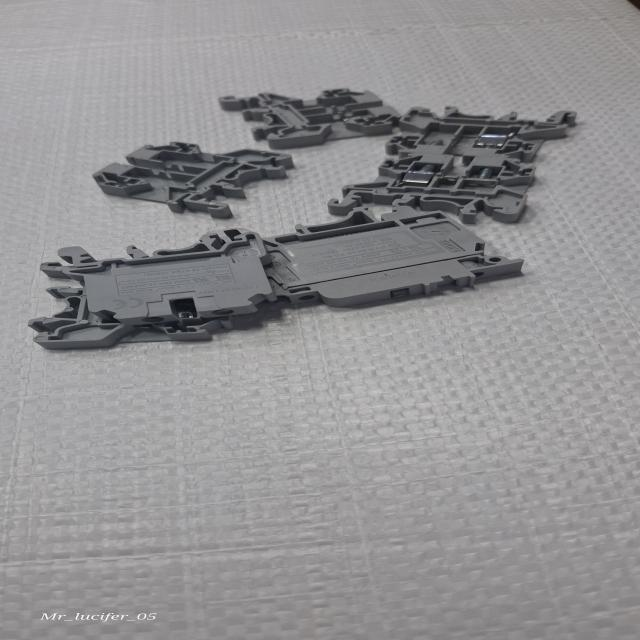Reject: (314, 146, 558, 223), (74, 139, 299, 221), (208, 82, 406, 150), (383, 96, 586, 160)
